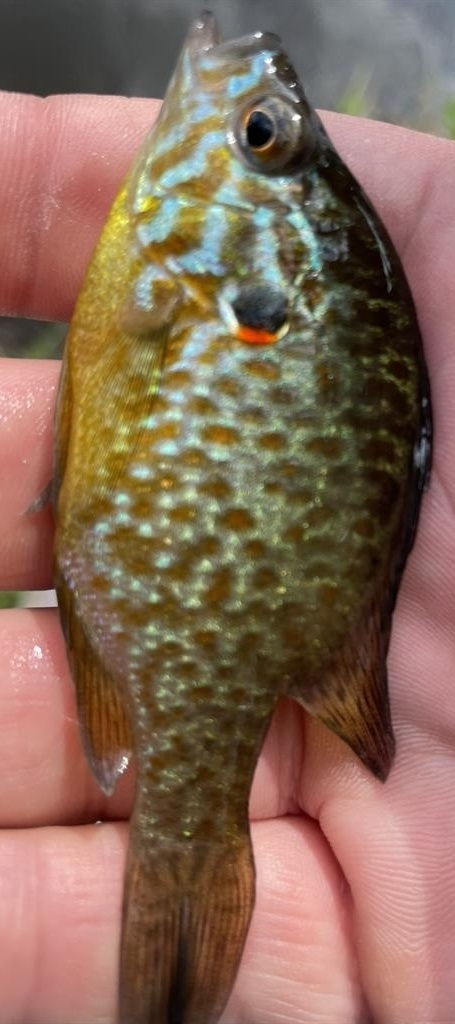Lepomis gibbosus: (20, 11, 435, 1024)
